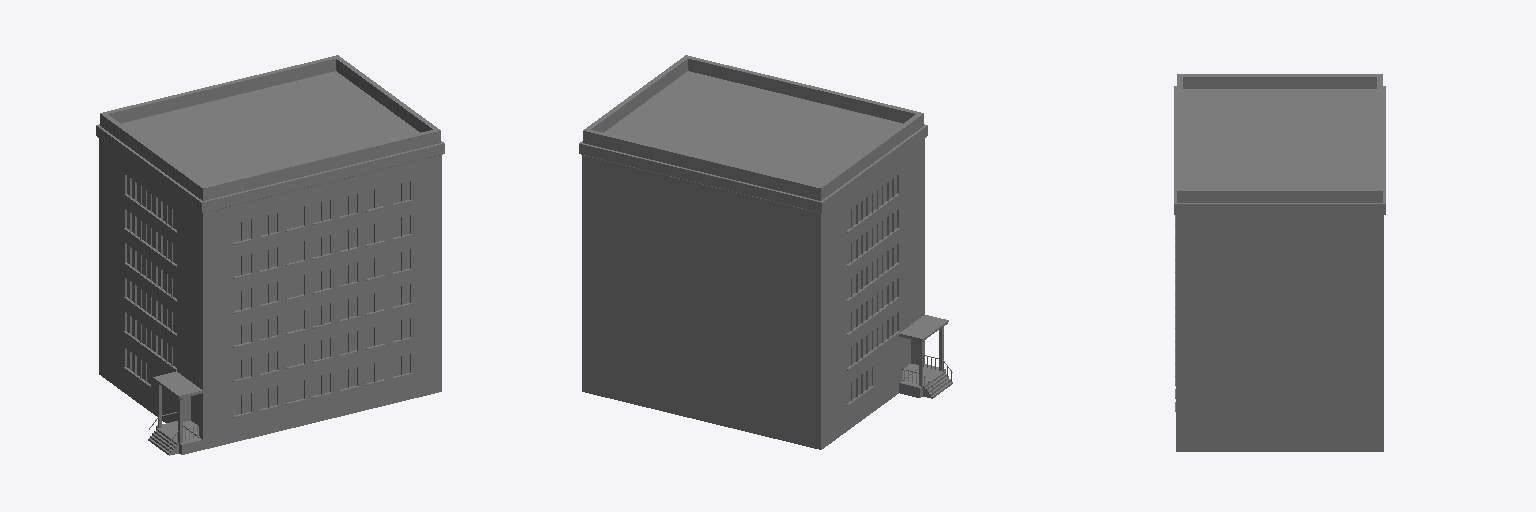
Rendered from Edificio1.obj.
3 views of the same model, side by side, from view 1: azimuth 30°, elevation 25°; view 2: azimuth 150°, elevation 25°; view 3: azimuth 270°, elevation 25° (orthographic).
Parts seen in each view (by area): view 1: free_building; view 2: free_building; view 3: free_building.
Boxes of the visible parts, x1=… form: free_building: x1=96, y1=55, x2=444, y2=455; free_building: x1=579, y1=55, x2=952, y2=449; free_building: x1=1174, y1=74, x2=1385, y2=451.
Size of the model in its own units: 2730 by 2504 by 1840.